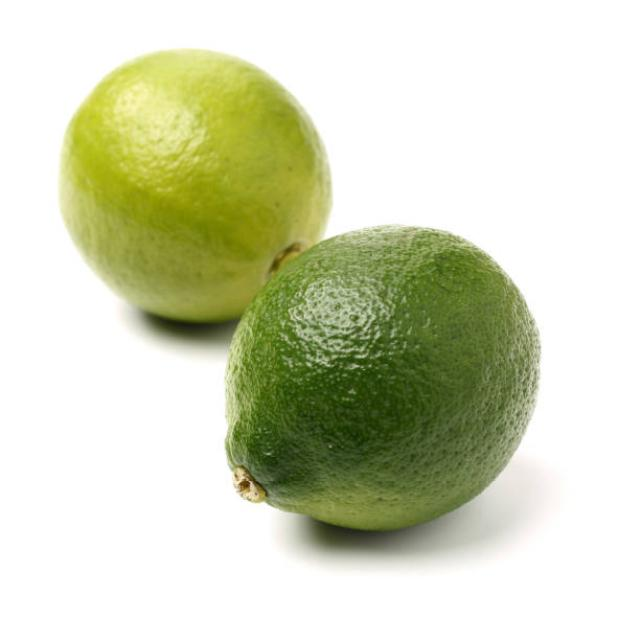Unripe: (225, 221, 542, 533), (60, 48, 332, 322)
